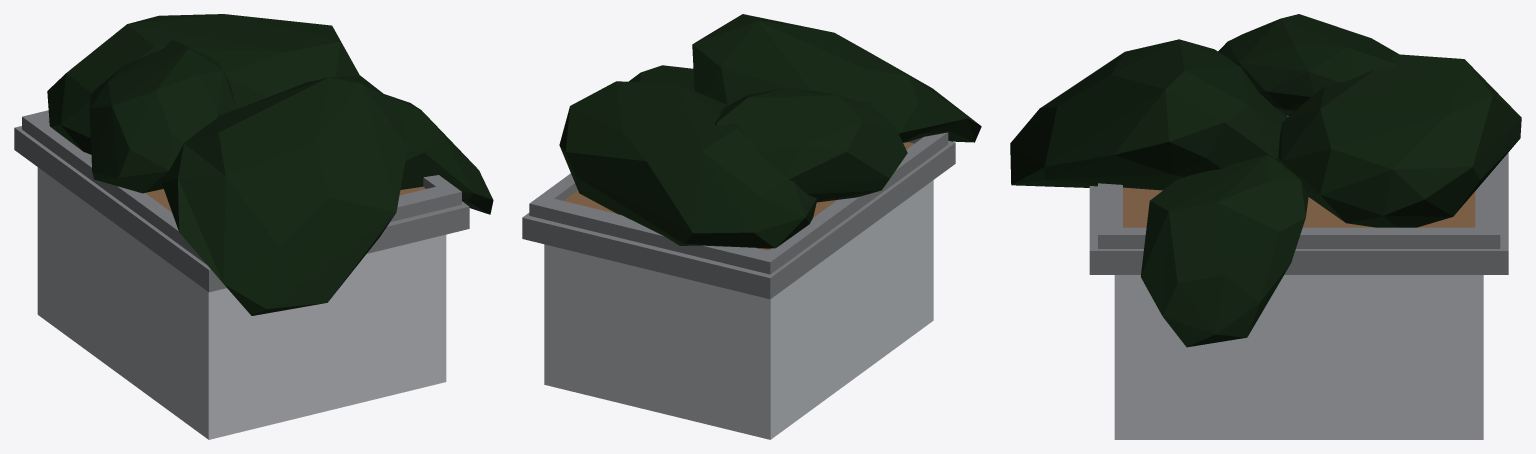
The model's file is SM_platform_bushes_02.fbx.
The picture shows the model from 3 angles, left to right: view 1: azimuth 30°, elevation 25°; view 2: azimuth 150°, elevation 25°; view 3: azimuth 270°, elevation 25°; orthographic projection. The views are drawn at different scales.
Parts seen in each view (by area): view 1: Box239; view 2: Box239; view 3: Box239.
Part boxes in pixels (bbox=[...]): Box239: bbox=[14, 14, 493, 439]; Box239: bbox=[522, 14, 981, 439]; Box239: bbox=[1010, 14, 1521, 439].
Bounding box in the file's own units: 68.4 × 79.85 × 55.93.
